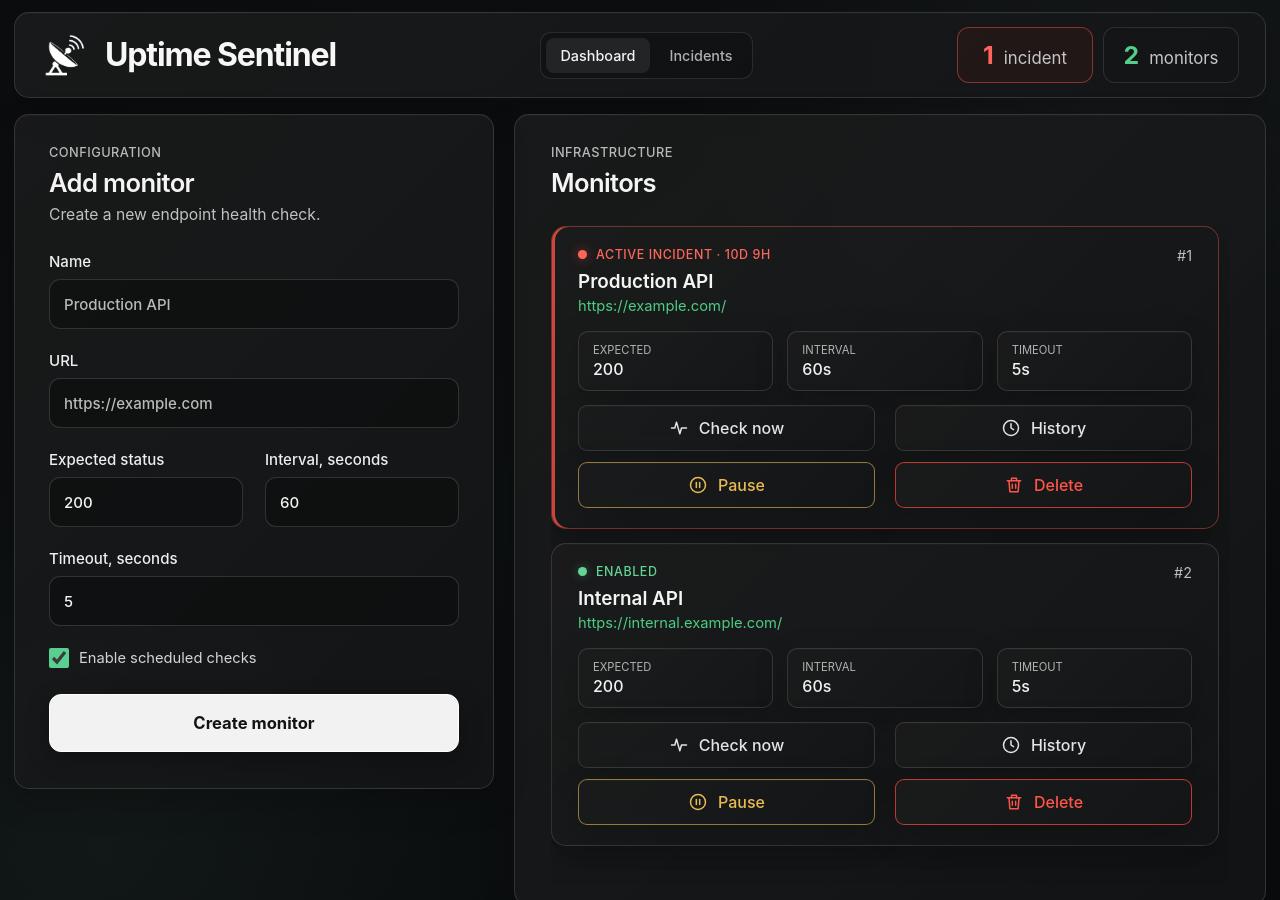
Test: Uptime Sentinel dashboard › opens the incidents page and filters resolved incidents
This screenshot has width=1280, height=900.
Click the link "Incidents": (701, 55) x1=670 y1=46 x2=732 y2=64
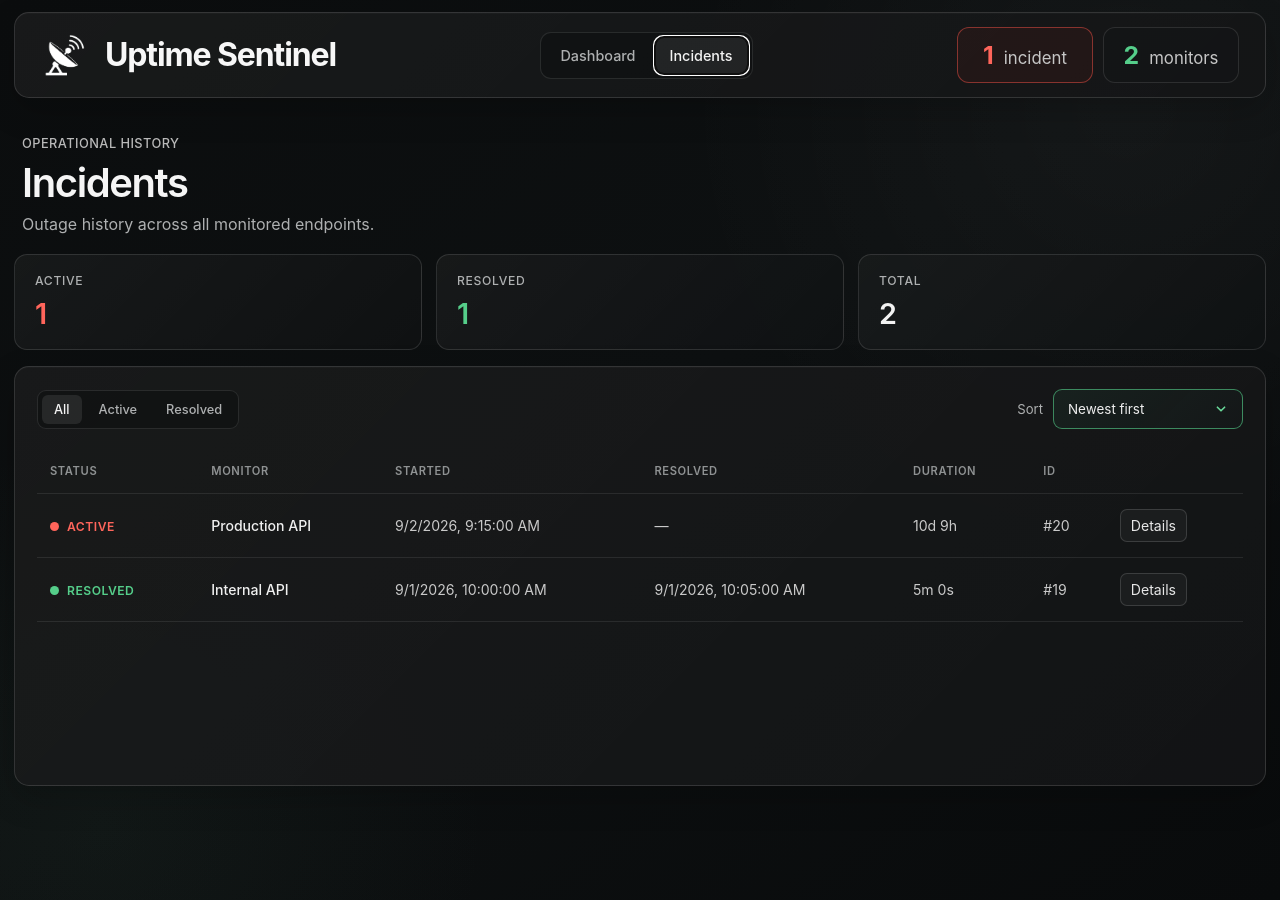
Expected: the text "Production API" is shown, x1=198 y1=494 x2=382 y2=558
Expected: the heading "Incidents" is shown, x1=22 y1=158 x2=188 y2=207
Click the button with aria-label "Sort incidents: Newest first": (1148, 409) x1=1053 y1=389 x2=1243 y2=429
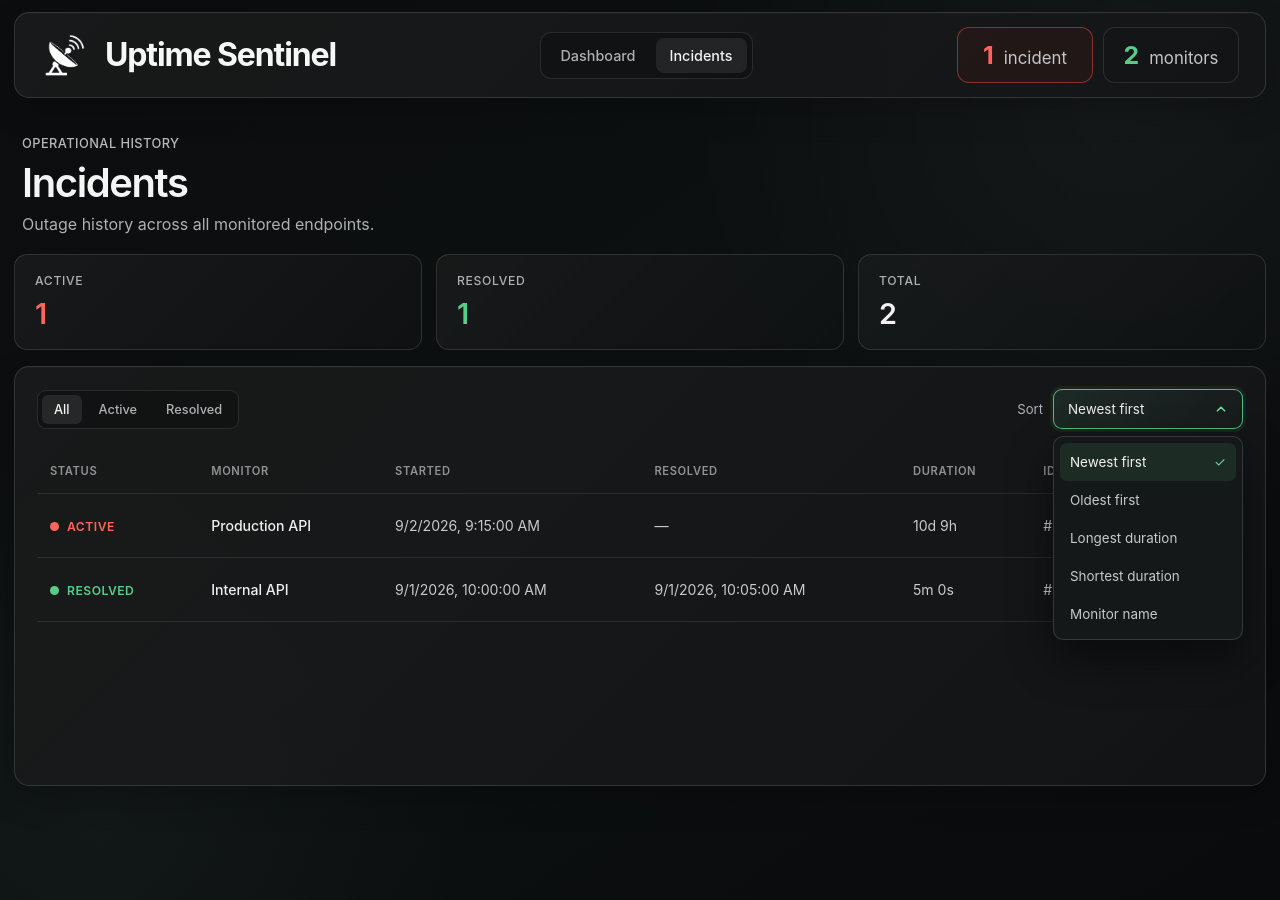
Click the option "Shortest duration": (1148, 576) x1=1060 y1=557 x2=1236 y2=595
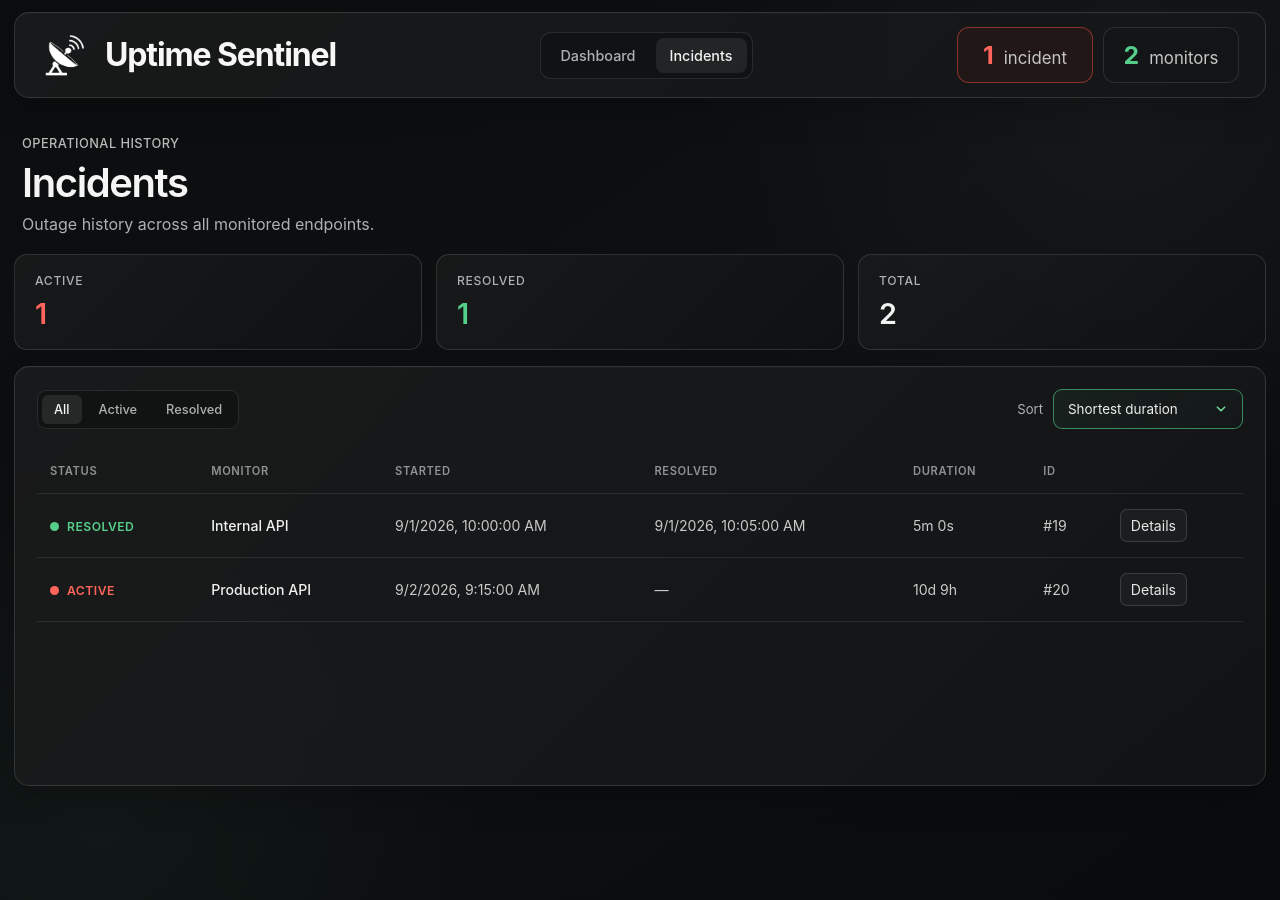
Expected: the button with aria-label "Sort incidents: Shortest duration" is shown, x1=1053 y1=389 x2=1243 y2=429
Click the button "Resolved": (194, 409) x1=154 y1=394 x2=234 y2=424
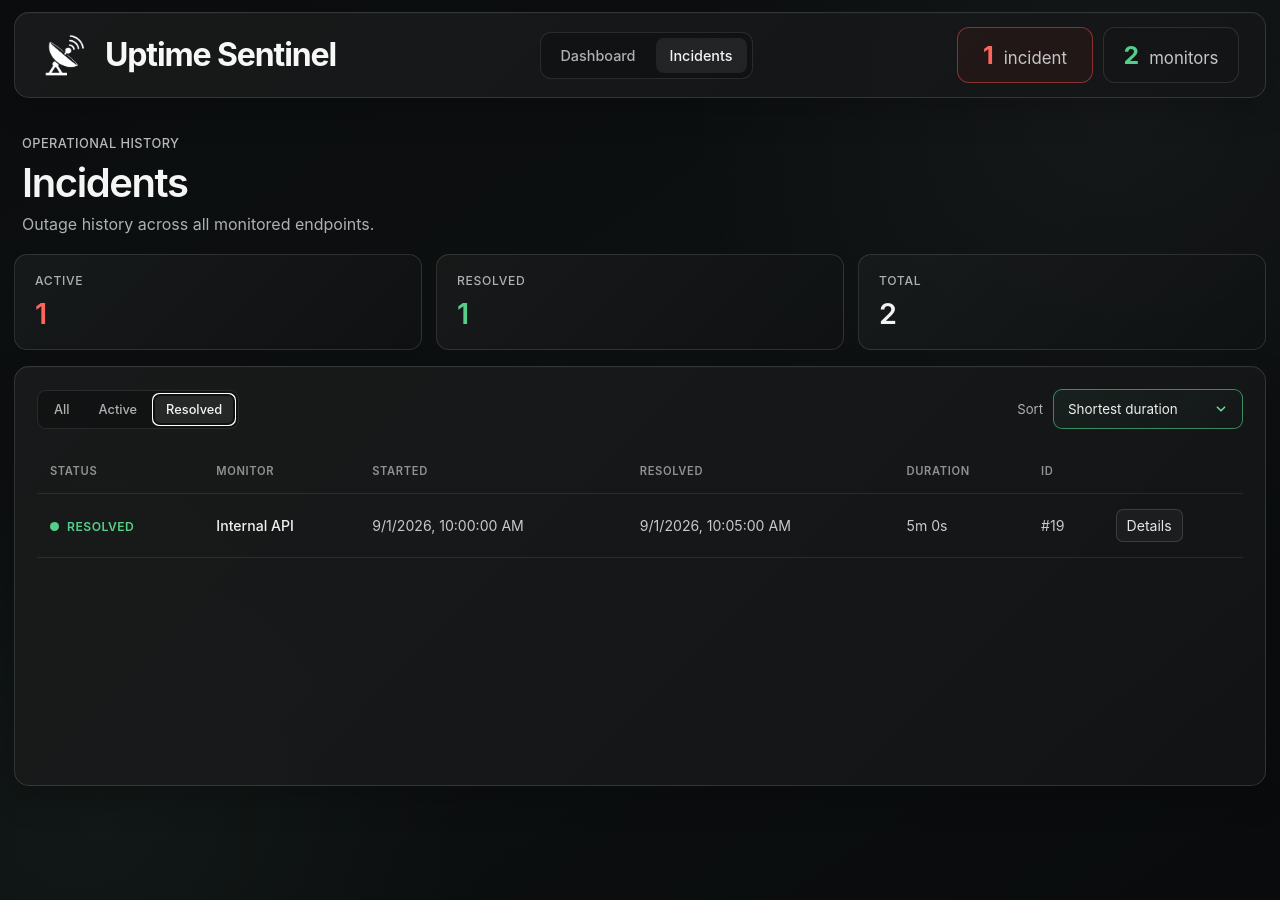
Expected: the text "Internal API" is shown, x1=203 y1=494 x2=359 y2=558
Expected: the text "Production API" is gone
